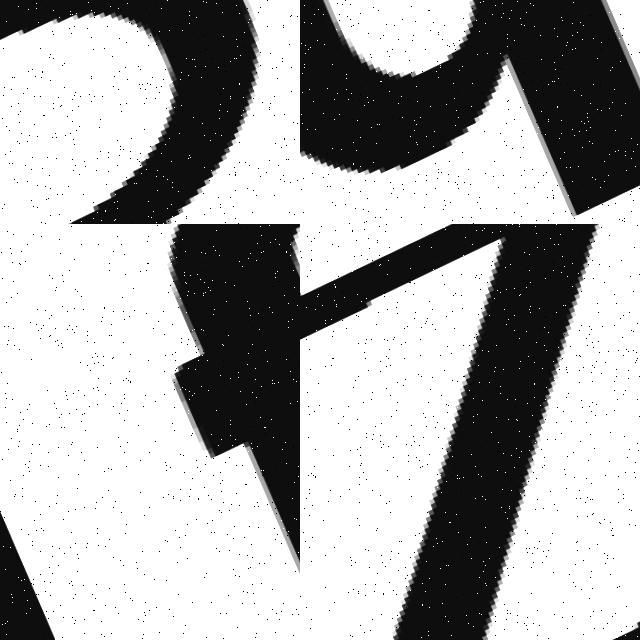5: (0, 0, 300, 224)
F: (78, 224, 300, 640)
Q: (300, 0, 640, 224)
Z: (300, 224, 640, 640)
